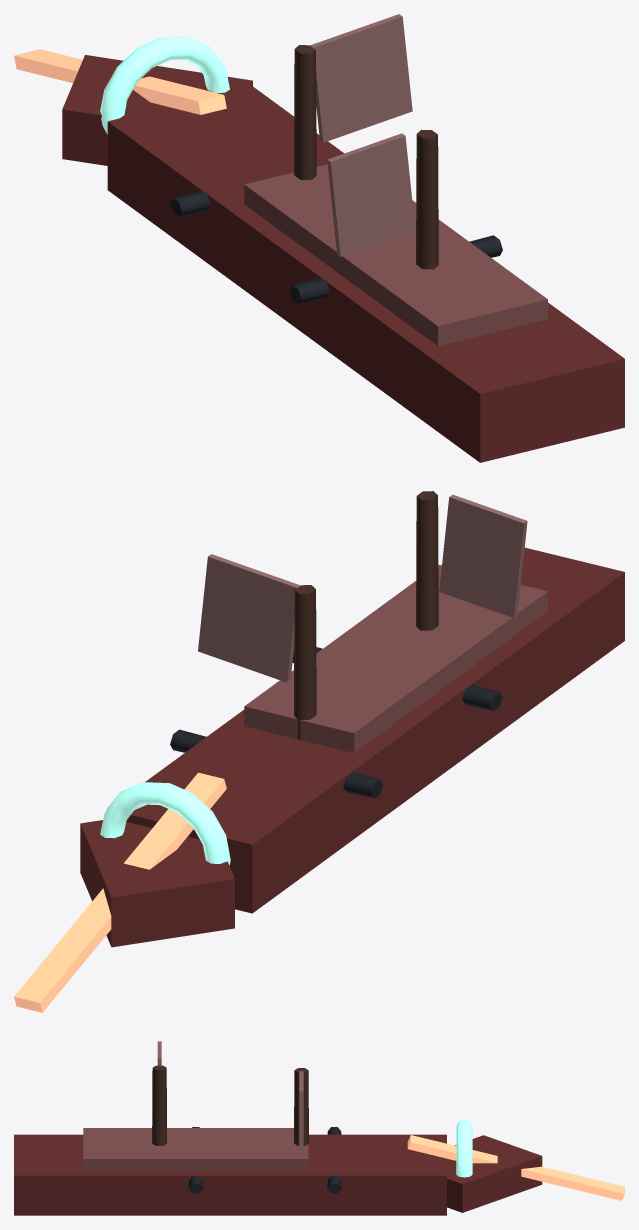
The model's file is ship_main_55_lod1.glb.
3 views of the same model, one above another, from view 1: azimuth 30°, elevation 25°; view 2: azimuth 150°, elevation 25°; view 3: azimuth 270°, elevation 25° (orthographic). The views are drawn at different scales.
Parts seen in each view (by area): view 1: Hull, Deck_0, Sail_0, Sail_1, Bow, OpenCrescentProw, ProwIdentity, Mast_1, Mast_0, Gun_P_0, Gun_P_2; view 2: Hull, Deck_0, Bow, Sail_0, Sail_1, ProwIdentity, OpenCrescentProw, Mast_1, Mast_0, Gun_P_0, Gun_P_2; view 3: Hull, Deck_0, Bow, ProwIdentity, Mast_1, Mast_0, OpenCrescentProw, Sail_0.
Boxes of the visible parts, left/top/right/bottom form: Hull: left=107, top=86, right=624, bottom=462; Deck_0: left=244, top=164, right=547, bottom=345; Sail_0: left=310, top=14, right=412, bottom=142; Sail_1: left=327, top=133, right=415, bottom=256; Bow: left=62, top=55, right=252, bottom=165; OpenCrescentProw: left=100, top=37, right=229, bottom=134; ProwIdentity: left=14, top=49, right=226, bottom=114; Mast_1: left=416, top=129, right=438, bottom=269; Mast_0: left=294, top=45, right=316, bottom=180; Gun_P_0: left=170, top=190, right=210, bottom=216; Gun_P_2: left=289, top=277, right=329, bottom=304; Hull: left=126, top=547, right=624, bottom=913; Deck_0: left=244, top=564, right=547, bottom=752; Bow: left=80, top=820, right=234, bottom=947; Sail_0: left=198, top=554, right=300, bottom=682; Sail_1: left=439, top=494, right=527, bottom=617; ProwIdentity: left=14, top=772, right=226, bottom=1012; OpenCrescentProw: left=100, top=782, right=230, bottom=865; Mast_1: left=416, top=491, right=438, bottom=630; Mast_0: left=294, top=585, right=316, bottom=740; Gun_P_0: left=343, top=772, right=383, bottom=798; Gun_P_2: left=462, top=684, right=502, bottom=711; Hull: left=14, top=1134, right=446, bottom=1215; Deck_0: left=83, top=1128, right=308, bottom=1170; Bow: left=447, top=1135, right=542, bottom=1212; ProwIdentity: left=407, top=1135, right=624, bottom=1200; Mast_1: left=152, top=1065, right=167, bottom=1145; Mast_0: left=294, top=1068, right=308, bottom=1154; OpenCrescentProw: left=456, top=1119, right=472, bottom=1177; Sail_0: left=299, top=1071, right=303, bottom=1150.
Bounding box in the file's own units: 2.08 × 2.24 × 9.16.
